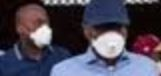with_facemask: (95, 33, 126, 57), (32, 26, 55, 50)
